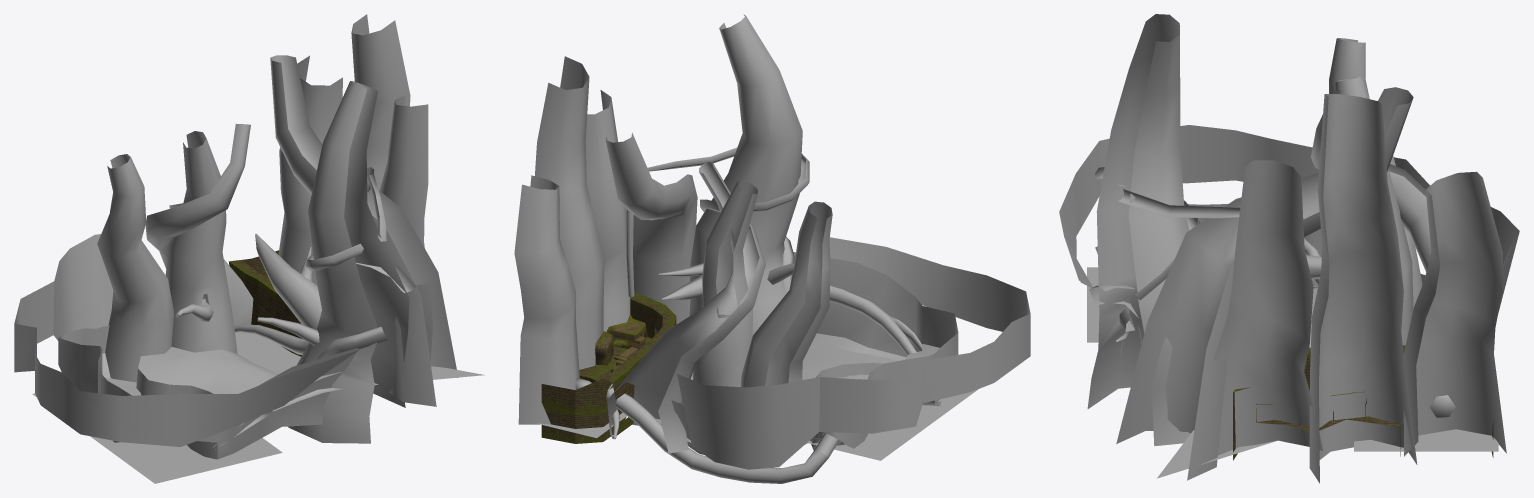
The model's file is Room03_environment.fbx.
The picture shows the model from 3 angles, left to right: view 1: azimuth 30°, elevation 25°; view 2: azimuth 150°, elevation 25°; view 3: azimuth 270°, elevation 25°; orthographic projection. The views are drawn at different scales.
Parts seen in each view (by area): view 1: bigTree_01, vineEdge_02, bigTree_04, bigTree_03, bigTree_02, vineEdge_01, bigTree_05, bigTree_06, bigVine_02, bigTree_07, grass_01, toxicWater_01 (+7 smaller); view 2: vineEdge_02, bigTree_01, bigTree_07, bigTree_06, bigVine_02, bigTree_04, vineEdge_01, bigTree_03, bigTree_02, bigTree_05, ruin_mainWall, tunnel_01 (+8 smaller); view 3: bigTree_06, bigTree_01, bigTree_05, bigTree_07, bigTree_04, vineEdge_02, bigVine_02, bigVine_01, bigTree_02, toxicWater_03, bigTree_03, toxicWater_02 (+3 smaller).
Boxes of the visible parts, x1,y1,x2,y2 form: bigTree_01: (288, 81, 409, 443); vineEdge_02: (14, 234, 358, 446); bigTree_04: (270, 55, 457, 406); bigTree_03: (97, 154, 173, 382); bigTree_02: (165, 131, 237, 353); vineEdge_01: (58, 325, 359, 459); bigTree_05: (379, 95, 432, 361); bigTree_06: (351, 14, 410, 190); bigVine_02: (145, 124, 253, 325); bigTree_07: (278, 55, 342, 285); grass_01: (138, 347, 278, 393); toxicWater_01: (32, 377, 282, 483); vineEdge_02: (677, 237, 1030, 469); bigTree_01: (689, 14, 802, 335); bigTree_07: (514, 175, 579, 424); bigTree_06: (535, 56, 604, 369); bigVine_02: (607, 162, 765, 453); bigTree_04: (606, 132, 697, 324); vineEdge_01: (671, 252, 958, 454); bigTree_03: (741, 201, 832, 444); bigTree_02: (692, 180, 757, 386); bigTree_05: (585, 90, 630, 331); ruin_mainWall: (541, 291, 676, 443); tunnel_01: (606, 383, 828, 483); bigTree_06: (1309, 94, 1417, 483); bigTree_01: (1087, 14, 1190, 446); bigTree_05: (1214, 160, 1322, 455); bigTree_07: (1403, 171, 1506, 456); bigTree_04: (1116, 87, 1413, 480); vineEdge_02: (1059, 125, 1519, 312); bigVine_02: (1311, 90, 1431, 279); bigVine_01: (1089, 167, 1240, 343); bigTree_02: (1334, 76, 1413, 345); toxicWater_03: (1354, 429, 1498, 451); bigTree_03: (1329, 38, 1422, 308); toxicWater_02: (1157, 430, 1277, 478).
Size of the model in its own units: 205 by 168 by 165.
